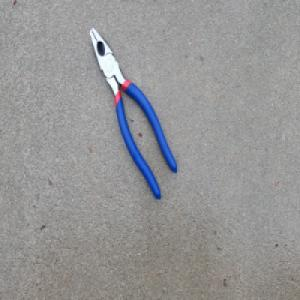Pliers: (88, 24, 178, 201)
